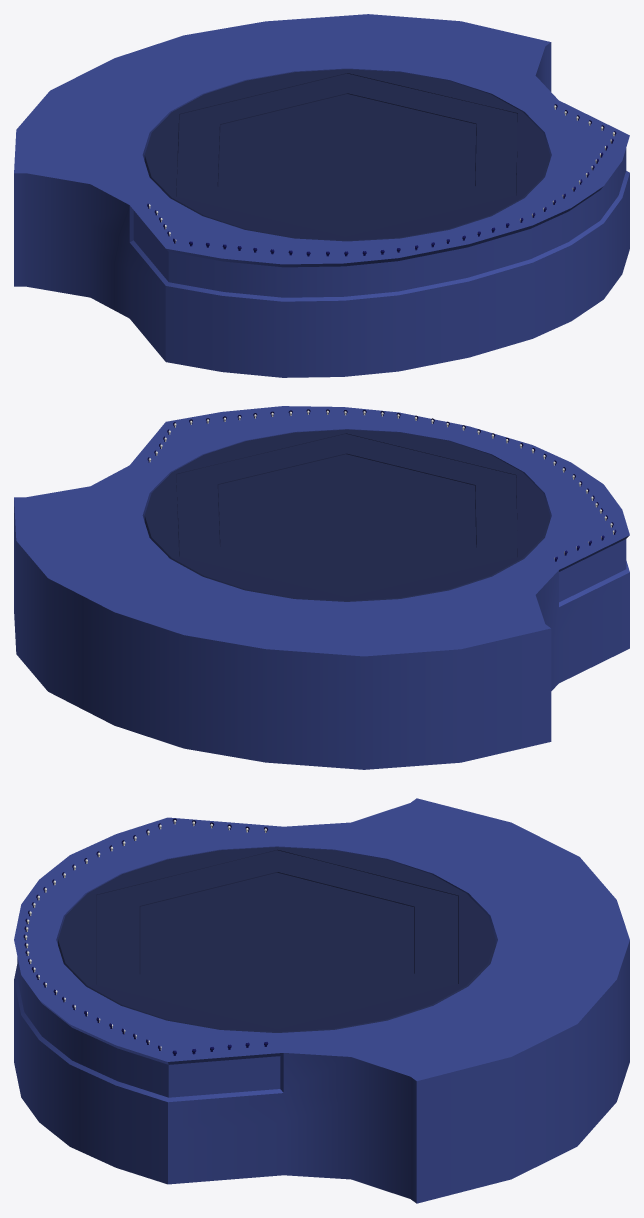
The model's file is MDL_Single_Week_04_EXPORT_01.fbx.
3 renders of one model, top to bottom at view 1: azimuth 30°, elevation 25°; view 2: azimuth 150°, elevation 25°; view 3: azimuth 270°, elevation 25°, orthographic. The views are drawn at different scales.
Parts seen in each view (by area): view 1: MDL_Outer_Stage_01, MDL_Turning_Stage_01, MDL_Hex_Core_Bottom_01, MDL_Hex_Core_Top_01, MDL_Hex_Ex_03, MDL_Hex_Ex_01, MDL_Hex_Ex_10, MDL_Hex_Ex_06, MDL_Hex_Ex_08, MDL_Hex_Ex_13, MDL_Hex_Ex_02, MDL_Hex_Ex_07 (+3 smaller); view 2: MDL_Outer_Stage_01, MDL_Turning_Stage_01, MDL_Hex_Core_Bottom_01, MDL_Hex_Core_Top_01, MDL_Hex_Ex_06, MDL_Hex_Ex_08, MDL_Hex_Ex_13, MDL_Hex_Ex_10, MDL_Hex_Ex_03, MDL_Hex_Ex_01, MDL_Hex_Ex_07, MDL_Hex_Ex_09 (+3 smaller); view 3: MDL_Outer_Stage_01, MDL_Turning_Stage_01, MDL_Hex_Core_Bottom_01, MDL_Hex_Core_Top_01, MDL_Hex_Ex_10, MDL_Hex_Ex_13, MDL_Hex_Ex_03, MDL_Hex_Ex_06, MDL_Hex_Ex_08, MDL_Hex_Ex_01, MDL_Hex_Ex_09, MDL_Hex_Ex_07 (+3 smaller).
Part boxes in pixels (box(x1,y1,x2,y2)): MDL_Outer_Stage_01: box(14, 14, 629, 377); MDL_Turning_Stage_01: box(144, 69, 549, 241); MDL_Hex_Core_Bottom_01: box(219, 124, 476, 217); MDL_Hex_Core_Top_01: box(218, 94, 475, 186); MDL_Hex_Ex_03: box(347, 83, 480, 126); MDL_Hex_Ex_01: box(218, 83, 347, 127); MDL_Hex_Ex_10: box(213, 187, 345, 227); MDL_Hex_Ex_06: box(475, 123, 517, 185); MDL_Hex_Ex_08: box(347, 186, 476, 227); MDL_Hex_Ex_13: box(177, 124, 219, 186); MDL_Hex_Ex_02: box(309, 73, 387, 92); MDL_Hex_Ex_07: box(475, 176, 516, 204); MDL_Outer_Stage_01: box(14, 406, 629, 769); MDL_Turning_Stage_01: box(144, 429, 549, 601); MDL_Hex_Core_Bottom_01: box(218, 454, 476, 547); MDL_Hex_Core_Top_01: box(218, 485, 474, 577); MDL_Hex_Ex_06: box(213, 443, 346, 487); MDL_Hex_Ex_08: box(346, 443, 476, 488); MDL_Hex_Ex_13: box(348, 547, 480, 587); MDL_Hex_Ex_10: box(475, 485, 517, 547); MDL_Hex_Ex_03: box(177, 484, 219, 546); MDL_Hex_Ex_01: box(218, 547, 346, 587); MDL_Hex_Ex_07: box(305, 434, 383, 453); MDL_Hex_Ex_09: box(475, 466, 516, 494); MDL_Outer_Stage_01: box(14, 798, 629, 1203); MDL_Turning_Stage_01: box(58, 847, 495, 1032); MDL_Hex_Core_Bottom_01: box(140, 873, 277, 1007); MDL_Hex_Core_Top_01: box(277, 872, 413, 1008); MDL_Hex_Ex_10: box(139, 860, 277, 909); MDL_Hex_Ex_13: box(277, 860, 414, 910); MDL_Hex_Ex_03: box(278, 973, 414, 1019); MDL_Hex_Ex_06: box(139, 974, 276, 1019); MDL_Hex_Ex_08: box(96, 906, 139, 973); MDL_Hex_Ex_01: box(414, 906, 457, 973); MDL_Hex_Ex_09: box(96, 884, 140, 915); MDL_Hex_Ex_07: box(96, 964, 140, 995).
Size of the model in its own units: 2159 by 455 by 1986.
